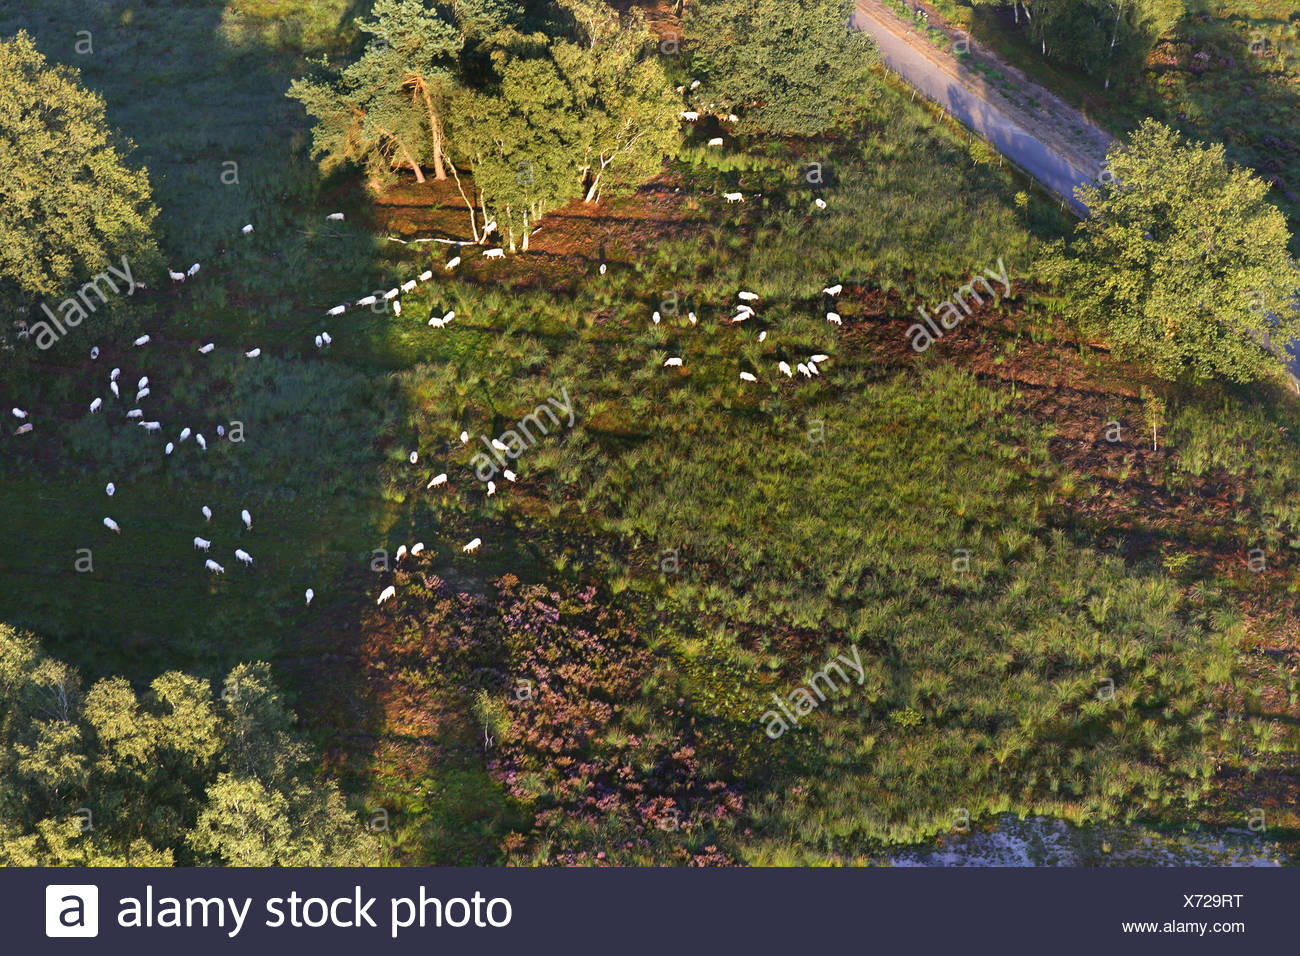sheep: (376, 585, 396, 606), (206, 559, 226, 577), (238, 508, 253, 532), (235, 549, 253, 568), (140, 419, 162, 434), (822, 283, 843, 298), (103, 517, 120, 535), (462, 538, 481, 554), (428, 474, 448, 490), (193, 536, 211, 552), (826, 312, 844, 327), (136, 387, 152, 403), (795, 363, 813, 379), (662, 356, 683, 368), (89, 396, 103, 414), (12, 406, 28, 421), (680, 109, 700, 121), (196, 341, 214, 354), (492, 438, 509, 451), (355, 294, 375, 305), (723, 194, 744, 204), (326, 305, 347, 315), (810, 353, 830, 364), (134, 335, 150, 348), (740, 290, 757, 302), (444, 255, 461, 268), (396, 544, 407, 562), (778, 361, 792, 376), (734, 310, 750, 322), (651, 310, 662, 327), (740, 371, 757, 383), (110, 381, 121, 398), (245, 348, 262, 359), (168, 269, 185, 280), (327, 211, 344, 222), (481, 248, 502, 257), (179, 428, 191, 443), (485, 481, 497, 497), (196, 434, 207, 450), (391, 298, 401, 315), (202, 505, 212, 522), (429, 315, 441, 328), (504, 469, 516, 483), (418, 269, 433, 279), (137, 377, 147, 392), (305, 587, 314, 603), (241, 223, 253, 235), (128, 409, 143, 418), (321, 333, 332, 345), (709, 136, 722, 146), (402, 279, 415, 289), (164, 442, 173, 455), (110, 366, 119, 380), (188, 265, 199, 274)
